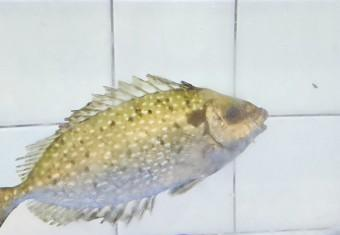fish: (0, 74, 267, 225)
